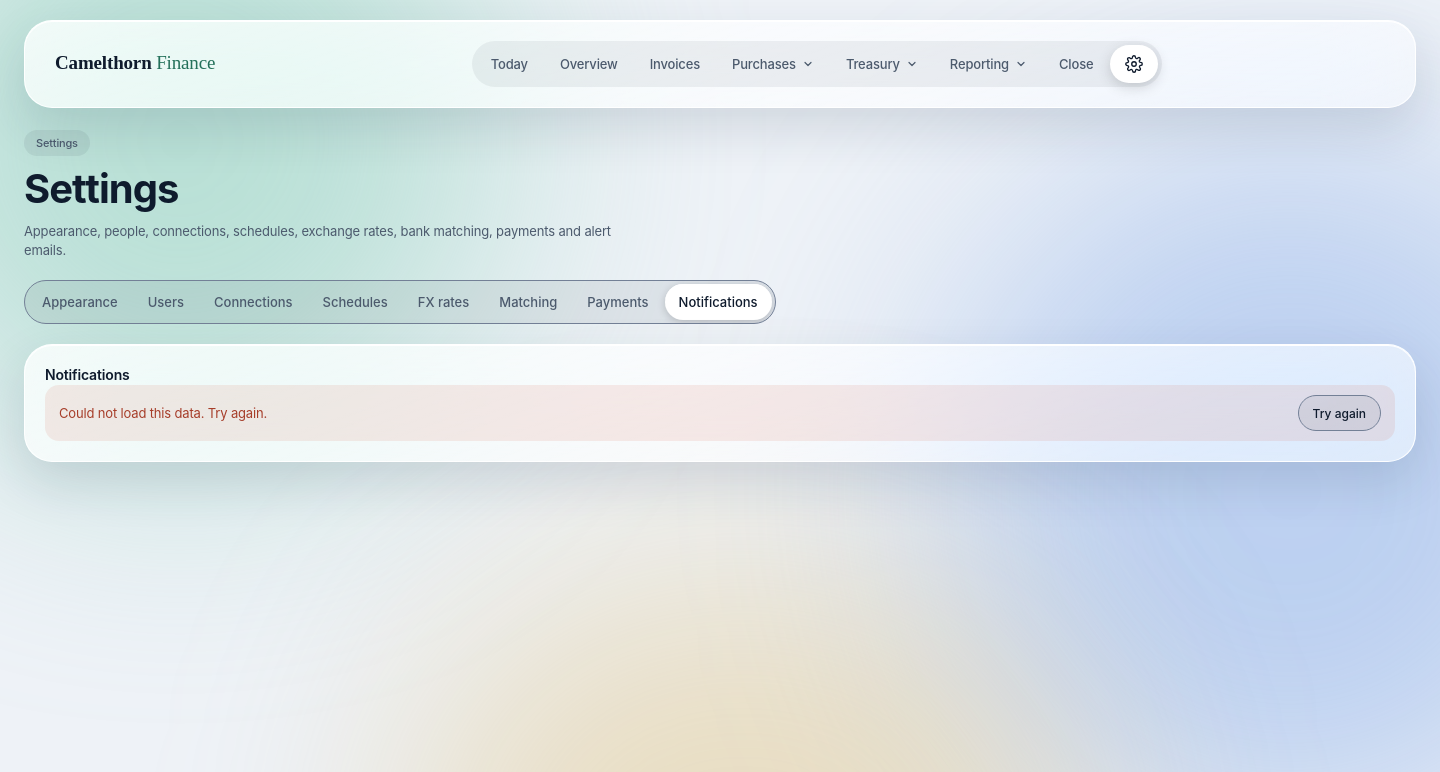
Test: the Notifications tab › shows skeleton while loading and a retry when the read fails
Step 1. Click the button "Try again" → (1339, 413), box [1298,395,1381,431]
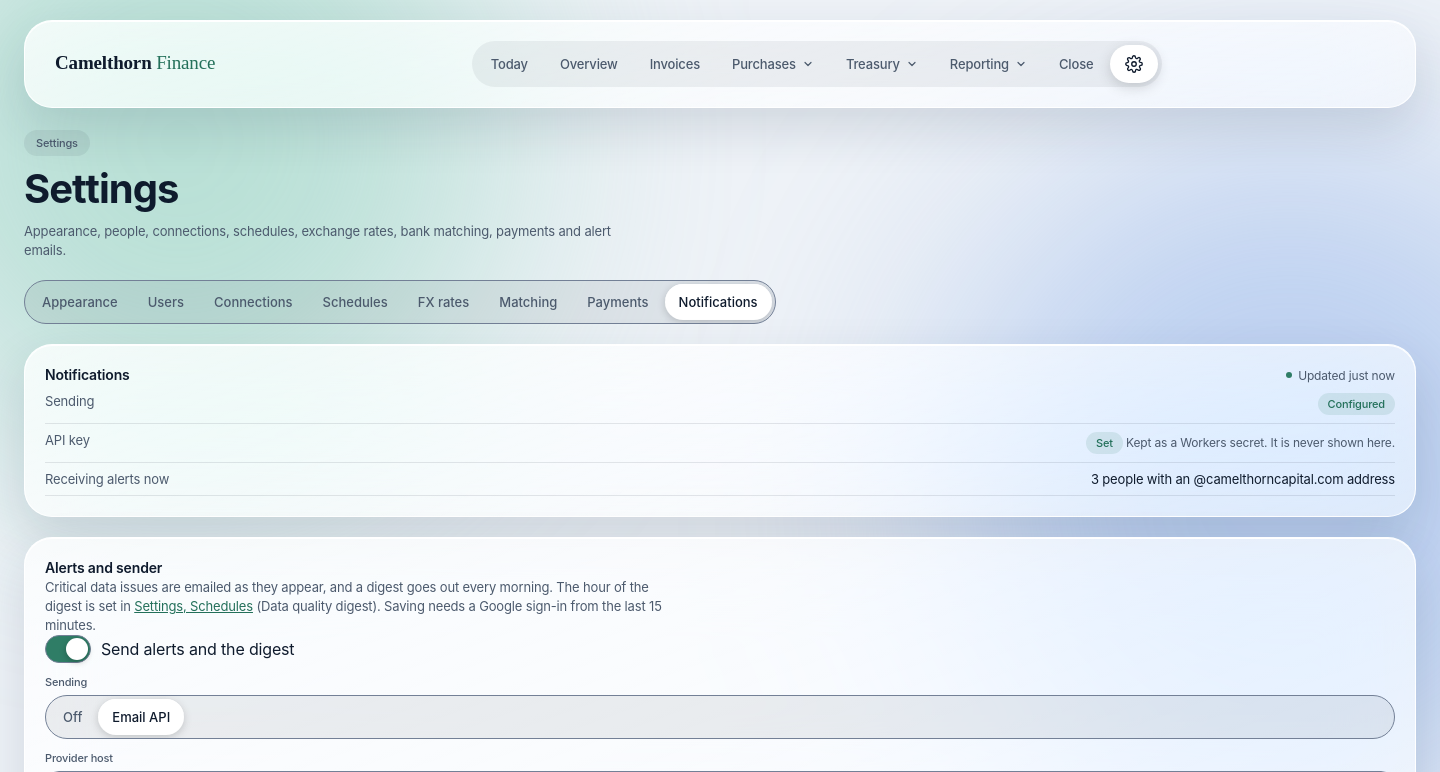
expect the heading "Alerts and sender" is shown: met, box [45,559,162,576]
